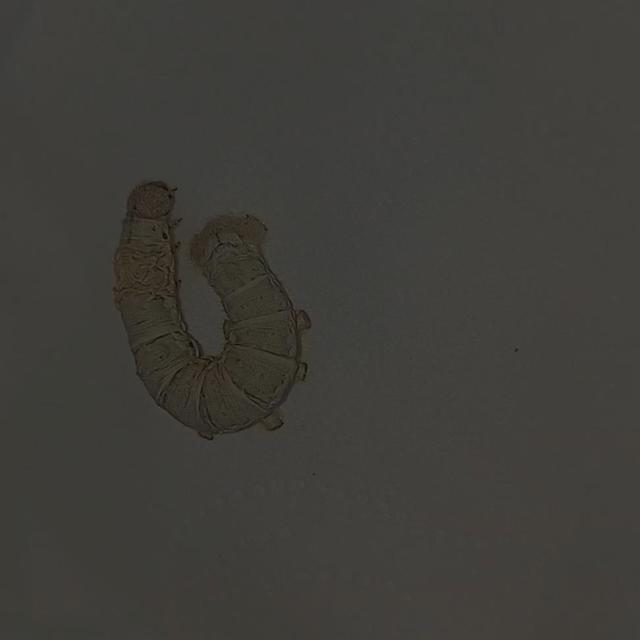Healthy: (103, 168, 333, 450)
